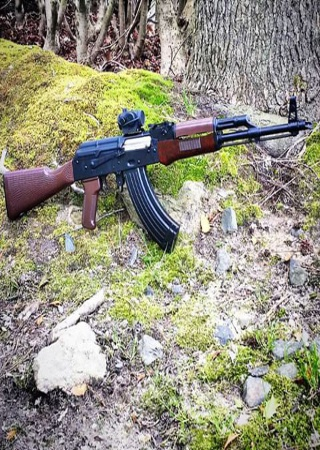rifle: (1, 93, 310, 257)
